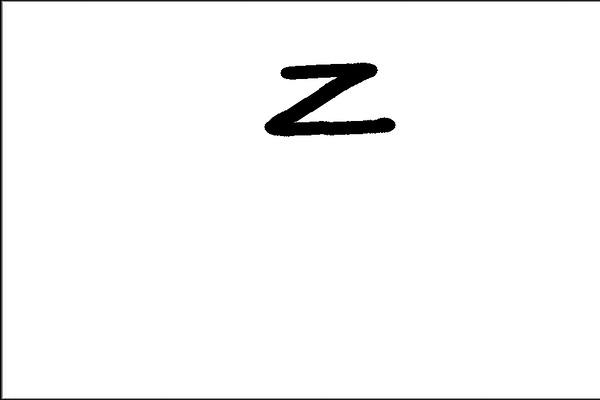Z: (260, 46, 401, 145)
